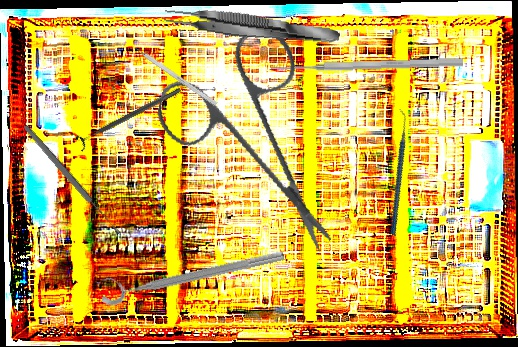Chopper: (348, 107, 445, 237)
Fixation Ring: (97, 236, 286, 308), (73, 81, 185, 153)
Hook Surgical: (126, 40, 218, 107)
Iris Scissors: (135, 8, 374, 254)
Pusher: (270, 55, 464, 75)
Surgical Spoon: (22, 123, 122, 237)
Tissue Forceps: (163, 3, 341, 50)
